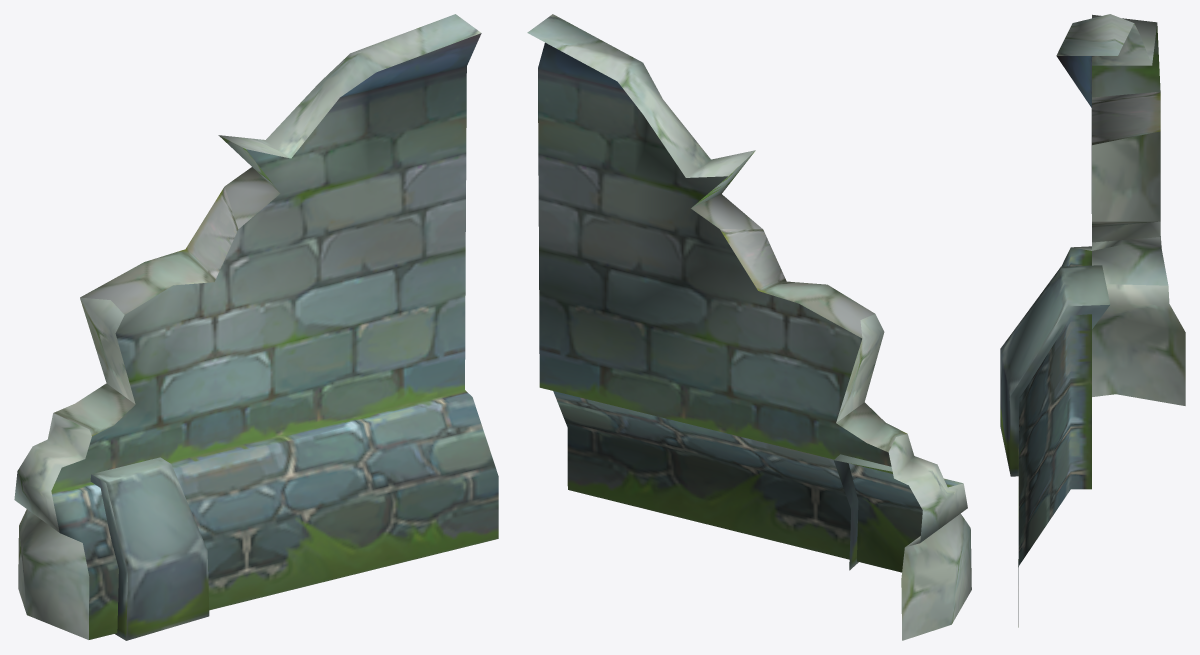
The model's file is Map_06_brokenwall02.FBX.
3 views of the same model, side by side, from view 1: azimuth 30°, elevation 25°; view 2: azimuth 150°, elevation 25°; view 3: azimuth 270°, elevation 25° (orthographic). The views are drawn at different scales.
Visible parts, largest first — view 1: Map_06_brokenwall02; view 2: Map_06_brokenwall02; view 3: Map_06_brokenwall02.
Boxes of the visible parts, box(x1,y1,x2,y2) form: Map_06_brokenwall02: box(14, 14, 498, 640); Map_06_brokenwall02: box(527, 14, 971, 640); Map_06_brokenwall02: box(1000, 14, 1185, 627).
Bounding box in the file's own units: 530 × 166 × 580.
